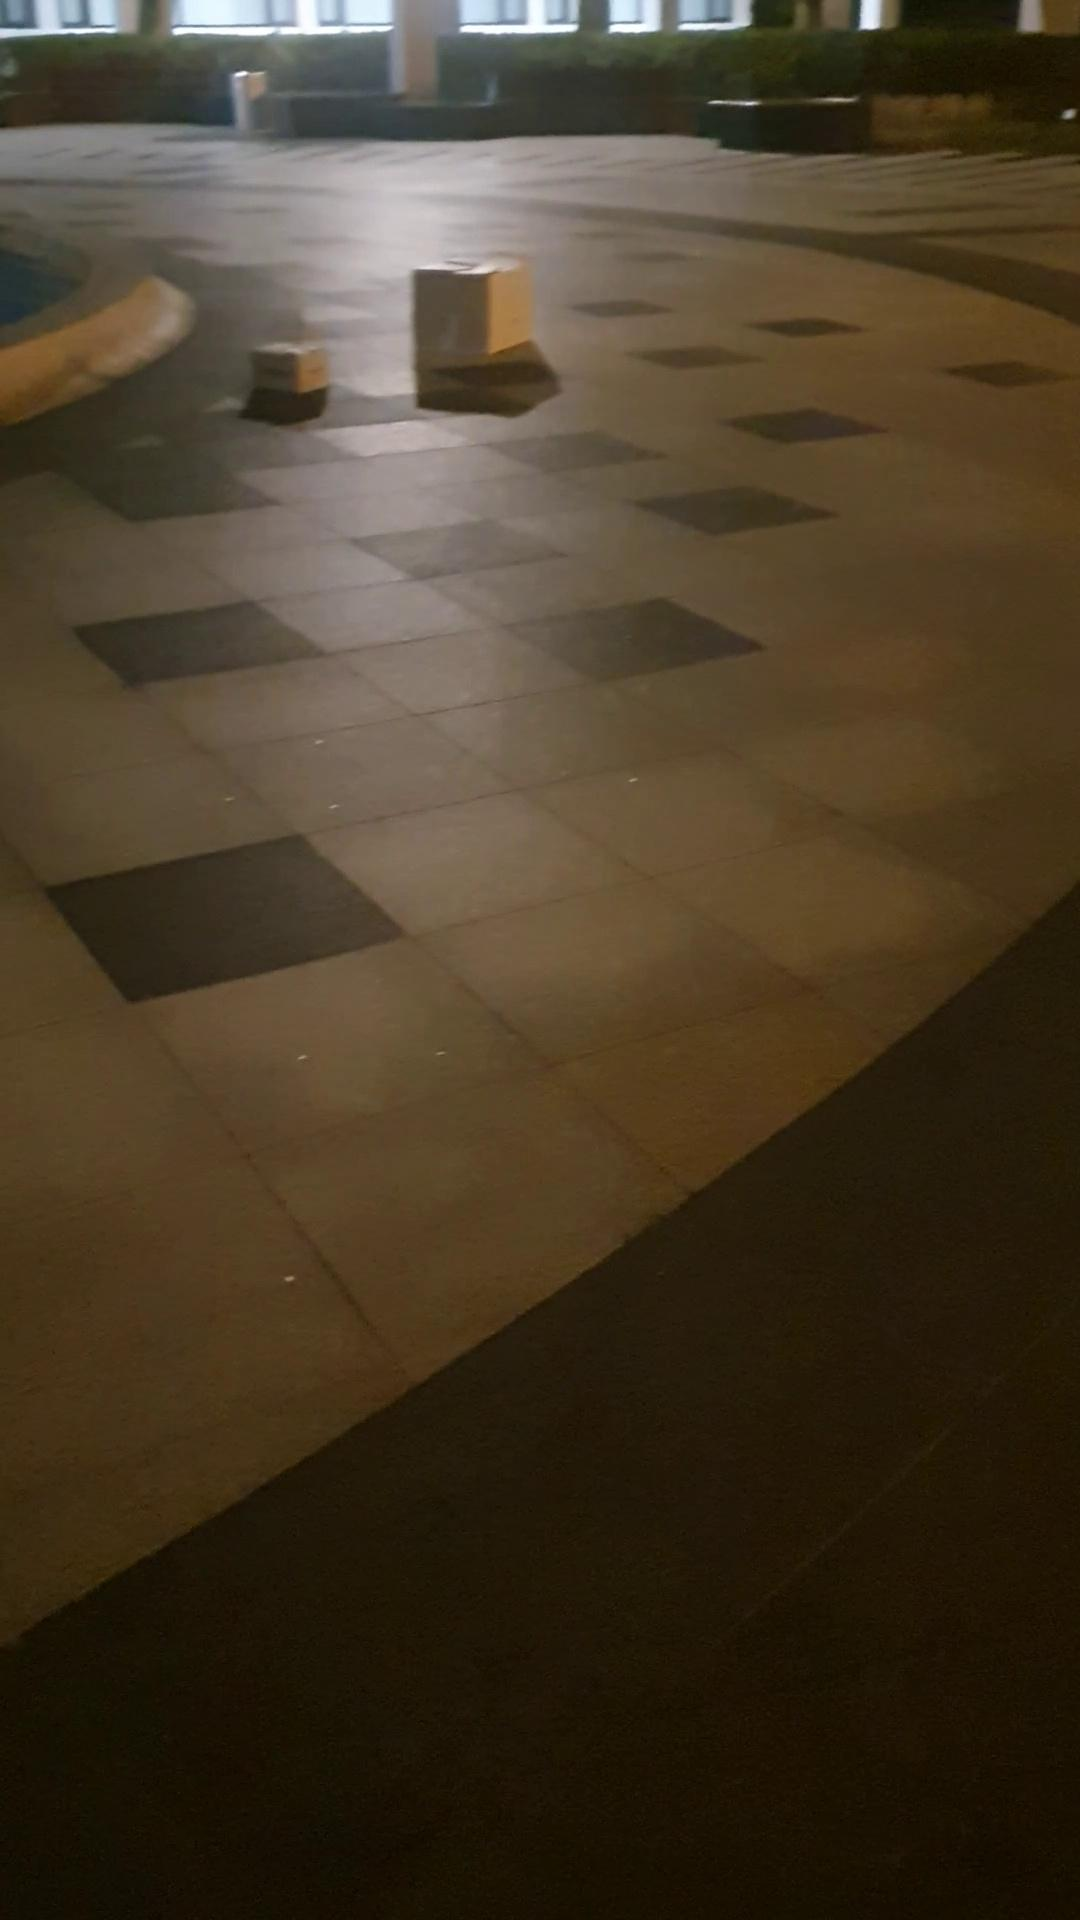Box: (411, 229, 525, 372), (256, 340, 324, 392)
